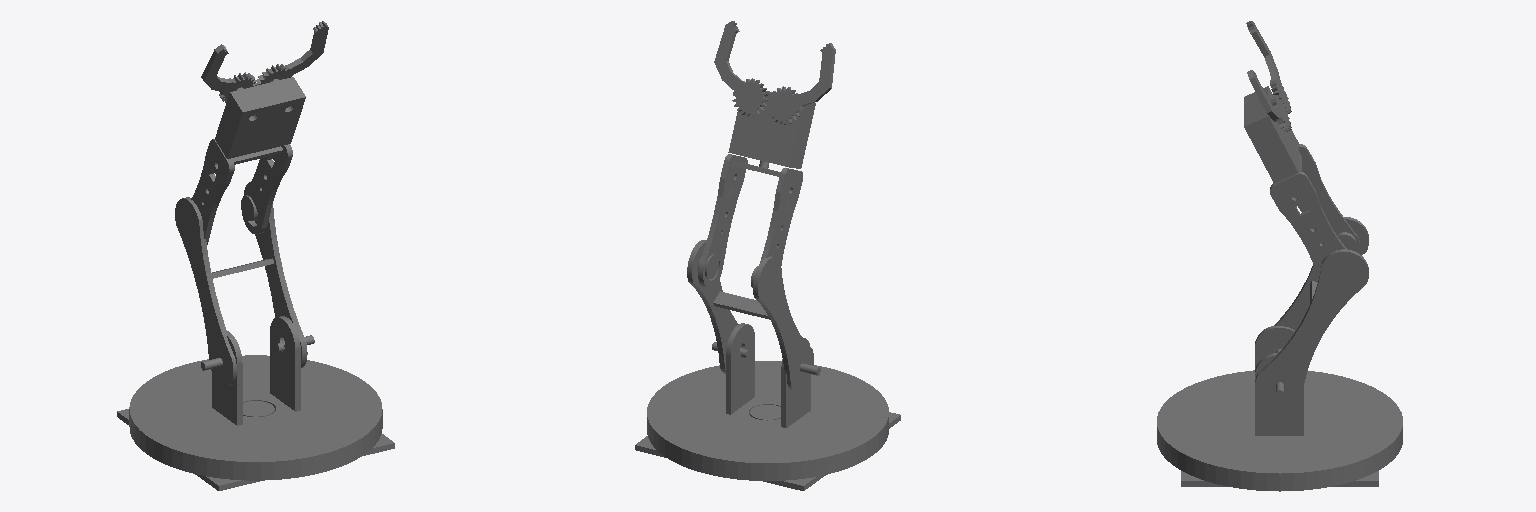
URDF robot description (adeept_arm):
<?xml version="1.0"?>
<robot name="adeept_arm">

  <link name="link1">
    <visual>
      <origin xyz="0 0 -0.04" rpy="0 0 0"/> 
      <geometry><mesh filename="package://meshes/link1.stl"/></geometry>
      <material name="gray"><color rgba="0.5 0.5 0.5 1"/></material>
    </visual>
    <collision>
      <origin xyz="0 0 0" rpy="0 0 0"/>
      <geometry><mesh filename="package://meshes/link1.stl"/></geometry>
    </collision>
    <inertial>
      <mass value="0.5"/>
      <origin xyz="0 0 0"/>
      <inertia ixx="0.001" ixy="0" ixz="0" iyy="0.001" iyz="0" izz="0.001"/>
    </inertial>
  </link>

  <joint name="joint1" type="revolute">
    <parent link="link1"/>
    <child link="link2"/>
    <origin xyz="0 0 0" rpy="0 0 0"/> <axis xyz="0 0 1"/> 
    <limit lower="-1.57" upper="1.57" effort="10" velocity="1"/>
  </joint>

  <link name="link2">
    <visual>
      <origin xyz="0 0 -0.04" rpy="0 0 0"/>
      <geometry><mesh filename="package://meshes/link2.stl"/></geometry>
      <material name="gray"><color rgba="0.5 0.5 0.5 1"/></material>
    </visual>
    <collision>
      <origin xyz="0 0 -0.04" rpy="0 0 0"/>
      <geometry><mesh filename="package://meshes/link2.stl"/></geometry>
    </collision>
    <inertial>
      <mass value="0.1"/>
      <inertia ixx="0.0001" ixy="0" ixz="0" iyy="0.0001" iyz="0" izz="0.0001"/>
    </inertial>
  </link>

  <joint name="joint2" type="revolute">
    <parent link="link2"/>
    <child link="link3"/>
    <origin xyz="-0.01 0 -0.01" rpy="0 0 0"/> 
    <axis xyz="1 0 0"/> 
    <limit lower="-1.57" upper="1.57" effort="10" velocity="1"/>
  </joint>

  <link name="link3">
    <visual>
      <origin xyz="0 0 0" rpy="0 1.5708 0"/> 
      <geometry><mesh filename="package://meshes/link3.stl"/></geometry>
      <material name="gray"><color rgba="0.5 0.5 0.5 1"/></material>
    </visual>
  </link>

  <joint name="joint3" type="revolute">
    <parent link="link3"/>
    <child link="link4"/>
    <origin xyz="-0.005 0.03 0.06" rpy="0 0 0"/> 
    <axis xyz="1 0 0"/> 
    <limit lower="-1.57" upper="1.57" effort="10" velocity="1"/>
  </joint>

  <link name="link4">
    <visual>
      <origin xyz="0 0 0" rpy="0 1.5708 0"/> 
      <geometry><mesh filename="package://meshes/link4.stl"/></geometry>
      <material name="gray"><color rgba="0.5 0.5 0.5 1"/></material>
    </visual>
    <collision>
      <origin xyz="0 0 0" rpy="0 1.5708 0"/>
      <geometry><mesh filename="package://meshes/link4.stl"/></geometry>
    </collision>
    <inertial>
      <mass value="0.05"/>
      <origin xyz="0 0 0"/>
      <inertia ixx="0.0001" ixy="0" ixz="0" iyy="0.0001" iyz="0" izz="0.0001"/>
    </inertial>
  </link>

  <joint name="joint4" type="revolute">
    <parent link="link4"/>
    <child link="link5"/> 
    <origin xyz="0.015 -0.042 0.085" rpy="0.45 0 0"/> 
    <axis xyz="0 0 1"/> <limit lower="-1.57" upper="1.57" effort="10" velocity="1"/>
  </joint>

  <link name="link5">
    <visual>
      <origin xyz="0 0 0" rpy="0 0 0"/>
      <geometry><mesh filename="package://meshes/link5.stl"/></geometry>
      <material name="gray"><color rgba="0.5 0.5 0.5 1"/></material>
    </visual>
    <collision>
      <origin xyz="0 0 0" rpy="0 0 0"/><geometry><mesh filename="package://meshes/link5.stl"/></geometry>
    </collision>
    <inertial>
      <mass value="0.05"/><inertia ixx="0.0001" ixy="0" ixz="0" iyy="0.0001" iyz="0" izz="0.0001"/>
    </inertial>
  </link>

  <joint name="joint_gripper_left" type="revolute">
    <parent link="link5"/>
    <child link="gripper_left"/> 
    <origin xyz="0.01 -0.005 -0.005" rpy="1 0 -1.5708"/> <axis xyz="1 0 0"/> <limit lower="-0.5" upper="0.5" effort="10" velocity="1"/>
  </joint>

  <link name="gripper_left">
    <visual>
      <origin xyz="0 0 0" rpy="0 1.5708 0"/> <geometry><mesh filename="package://meshes/gripper-1.stl"/></geometry>
      <material name="gray"><color rgba="0.5 0.5 0.5 1"/></material>
    </visual>
    <collision>
      <origin xyz="0 0 0" rpy="0 1.5708 0"/>
      <geometry><mesh filename="package://meshes/gripper-1.stl"/></geometry>
    </collision>
    <inertial>
      <mass value="0.02"/><inertia ixx="0.00001" ixy="0" ixz="0" iyy="0.00001" iyz="0" izz="0.00001"/></inertial>
  </link>

  <joint name="joint_gripper_right" type="revolute">
    <parent link="link5"/>
    <child link="gripper_right"/> 
    <origin xyz="-0.01 -0.005 -0.005" rpy="2.1 0 -1.5708"/> <axis xyz="1 0 0"/> <limit lower="-0.5" upper="0.5" effort="10" velocity="1"/>
  </joint>

  <link name="gripper_right">
    <visual>
      <origin xyz="0 0 0" rpy="0 1.5708 0"/> <geometry><mesh filename="package://meshes/gripper-2.stl"/></geometry>
      <material name="gray"><color rgba="0.5 0.5 0.5 1"/></material>
    </visual>
    <collision>
      <origin xyz="0 0 0" rpy="0 1.5708 0"/>
      <geometry><mesh filename="package://meshes/gripper-2.stl"/></geometry>
    </collision>
    <inertial>
      <mass value="0.02"/><inertia ixx="0.00001" ixy="0" ixz="0" iyy="0.00001" iyz="0" izz="0.00001"/></inertial>
  </link>

</robot>

--- What the picture shows (computed from the rendered views, not written in the file) ---
The picture shows the robot from 3 angles, left to right: view 1: azimuth 30°, elevation 25°; view 2: azimuth 150°, elevation 25°; view 3: azimuth 270°, elevation 25°; orthographic projection.
Robot: adeept_arm — 7 links, 6 joints (6 revolute); root link link1; default pose: all joints at 0.
Visible links, largest first — view 1: link2, link3, link5, link4, link1, gripper_left, gripper_right; view 2: link2, link3, link4, link5, gripper_left, gripper_right, link1; view 3: link2, link3, link4, link5, gripper_right, gripper_left, link1.
Link boxes in pixels (box(x1,y1,x2,y2)): link2: box(129, 316, 382, 480); link3: box(175, 182, 314, 386); link5: box(215, 77, 305, 158); link4: box(191, 139, 292, 244); link1: box(117, 401, 394, 490); gripper_left: box(255, 21, 328, 107); gripper_right: box(201, 44, 256, 115); link2: box(647, 323, 888, 480); link3: box(687, 240, 820, 390); link4: box(698, 154, 802, 287); link5: box(728, 91, 815, 168); gripper_left: box(714, 21, 768, 116); gripper_right: box(767, 43, 835, 124); link1: box(635, 405, 900, 490); link2: box(1157, 326, 1402, 491); link3: box(1255, 217, 1368, 407); link4: box(1270, 144, 1359, 276); link5: box(1244, 86, 1298, 183); gripper_right: box(1246, 21, 1291, 113); gripper_left: box(1247, 70, 1291, 131); link1: box(1181, 471, 1378, 486).
Size in the robot's own frame: 0.1243 by 0.1241 by 0.2229 metres.
Meshes: 7 distinct files referenced, 7 mesh visuals loaded (7 binary STL).
